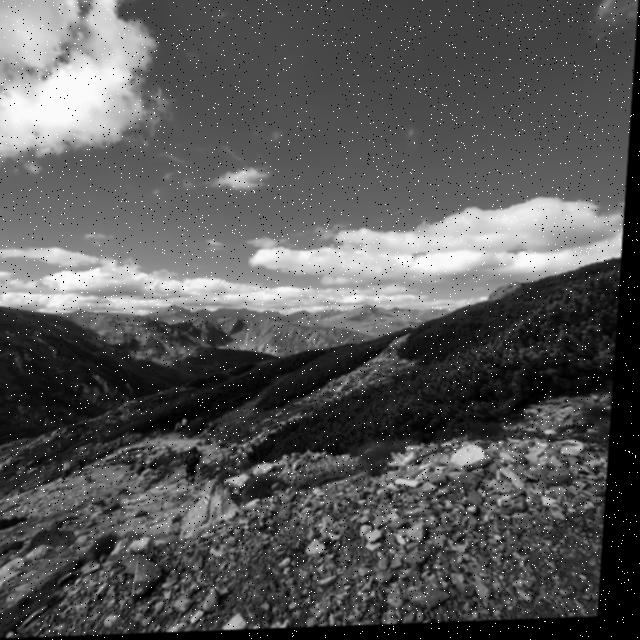Kasprowy Wierch: (347, 294, 415, 338)
Kozi Wierch: (360, 286, 433, 330)
Krivan: (135, 280, 212, 336)
Swinica: (322, 277, 410, 331)
Velka kopa: (134, 297, 216, 335)
